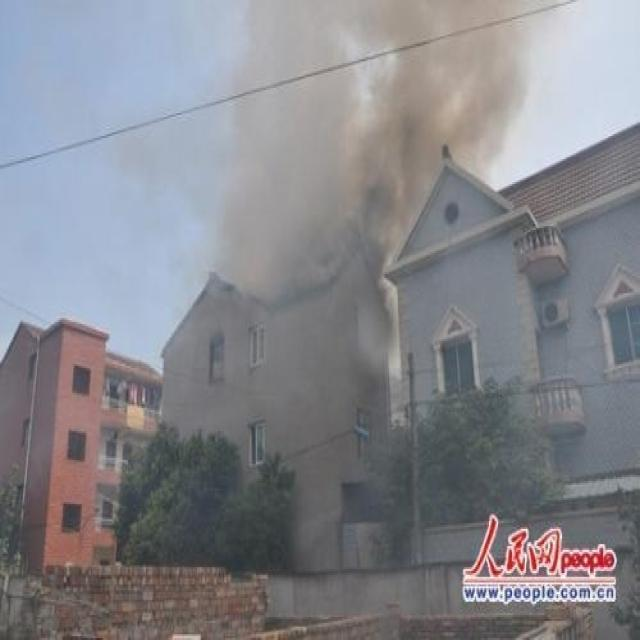Smoke: (210, 2, 572, 337)
